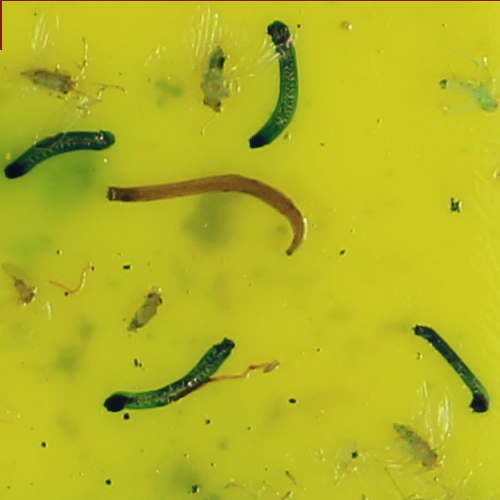Glycaspis: (390, 423, 439, 470), (199, 46, 229, 112), (127, 287, 163, 332), (18, 68, 78, 94)
